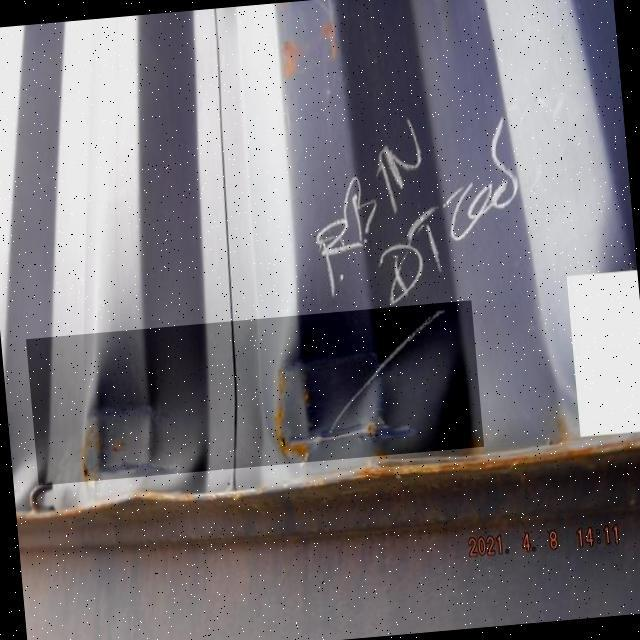Minor-Dent: (26, 300, 484, 485)
